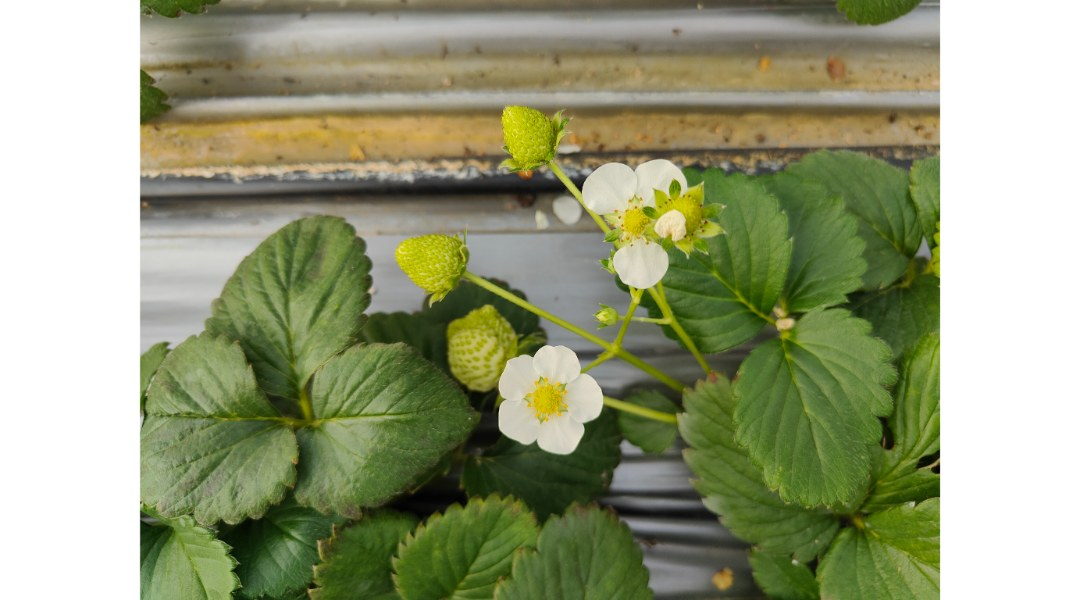berry: (435, 291, 524, 392), (394, 213, 480, 307), (488, 95, 572, 176)
flower: (580, 149, 712, 300), (494, 348, 610, 462), (642, 178, 726, 261)
strain: (461, 271, 595, 341), (652, 302, 717, 378), (601, 400, 713, 432), (624, 351, 688, 404)
